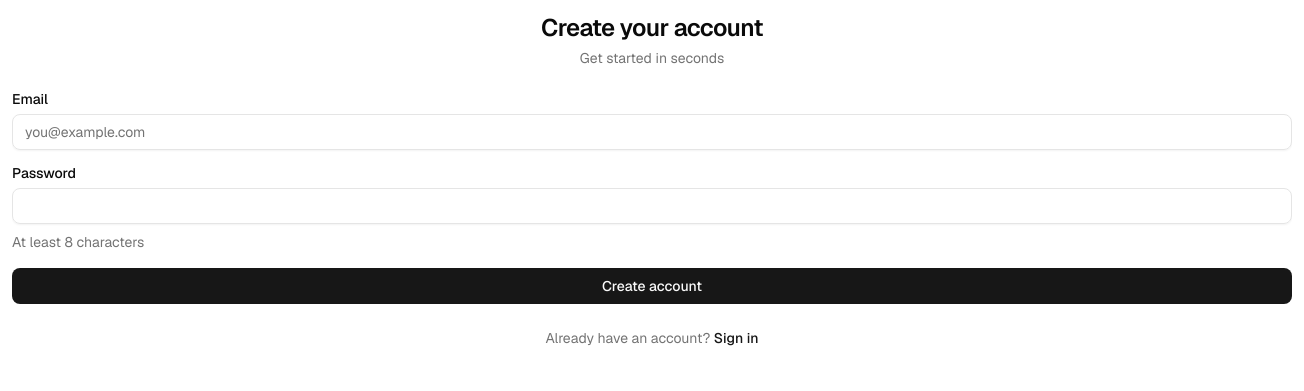
Test case: RegisterPage › surfaces the password-length validation message when the password is too short
Type "u@x.com" into the field labelled "Email" at (652, 132), box [12,114,1292,150]
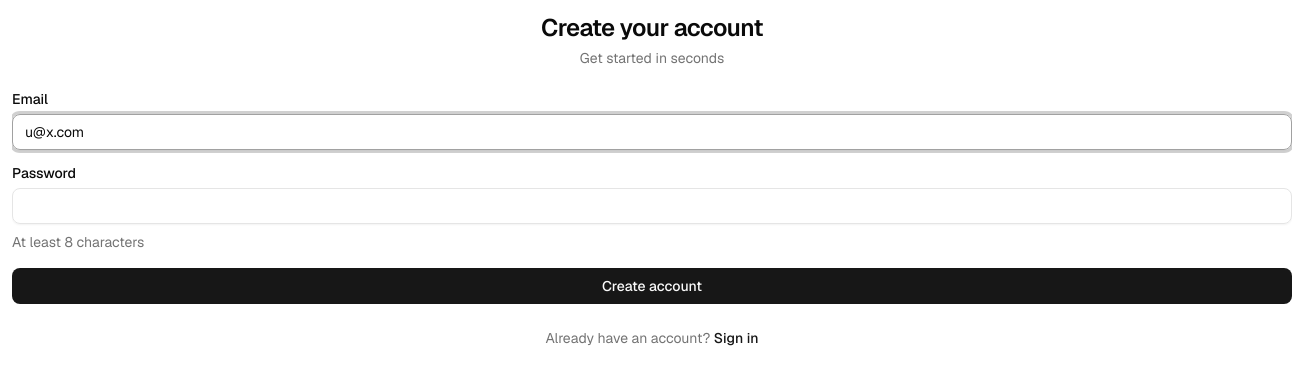
Type "short" into the password field labelled "Password" at (652, 206), box [12,188,1292,224]
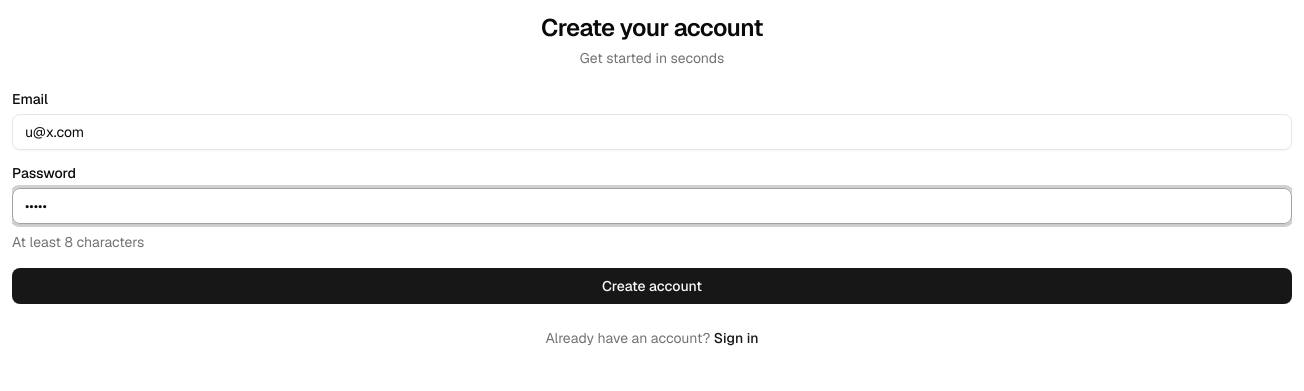
Click the button "Create account" at (652, 286), box [12,268,1292,304]
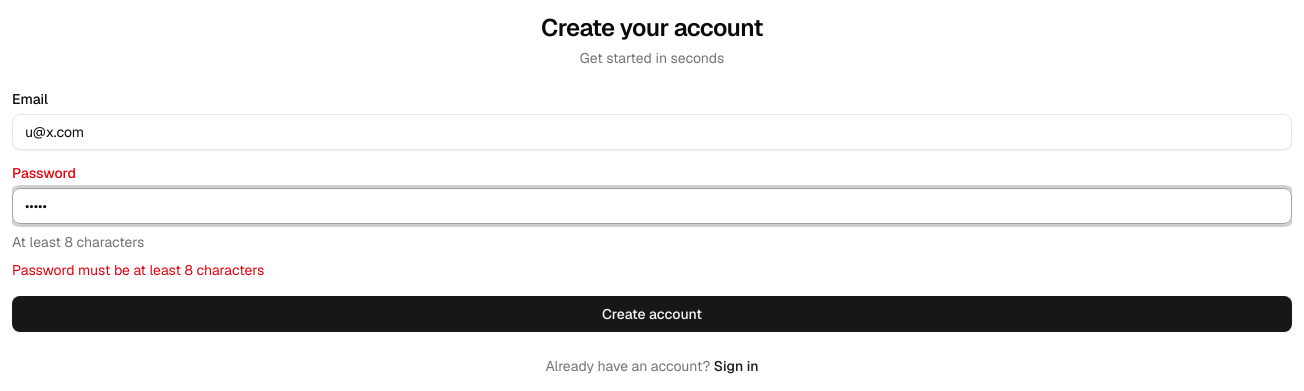
expect the text "Password must be at least 8 characters" is shown: met, box [12,261,264,279]
